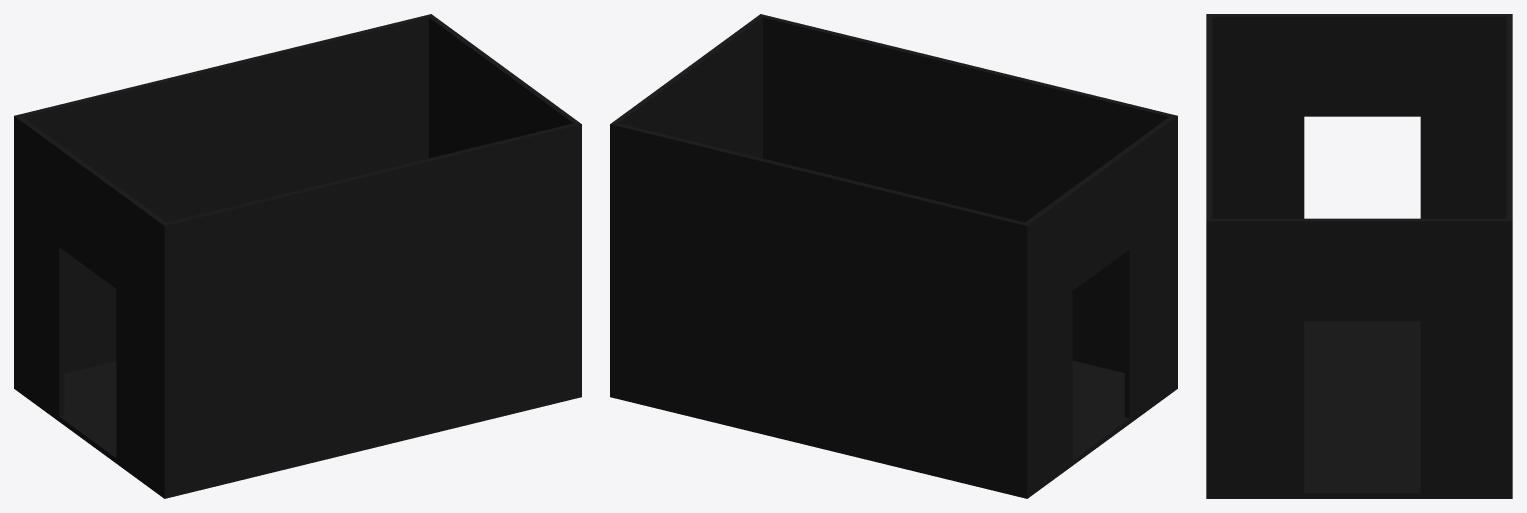
The model's file is FathersCouch-4.obj.
3 views of the same model, side by side, from view 1: azimuth 30°, elevation 25°; view 2: azimuth 150°, elevation 25°; view 3: azimuth 270°, elevation 25° (orthographic).
Bounding box in the file's own units: 8 × 5 × 5.
1 material, 1 textured.
